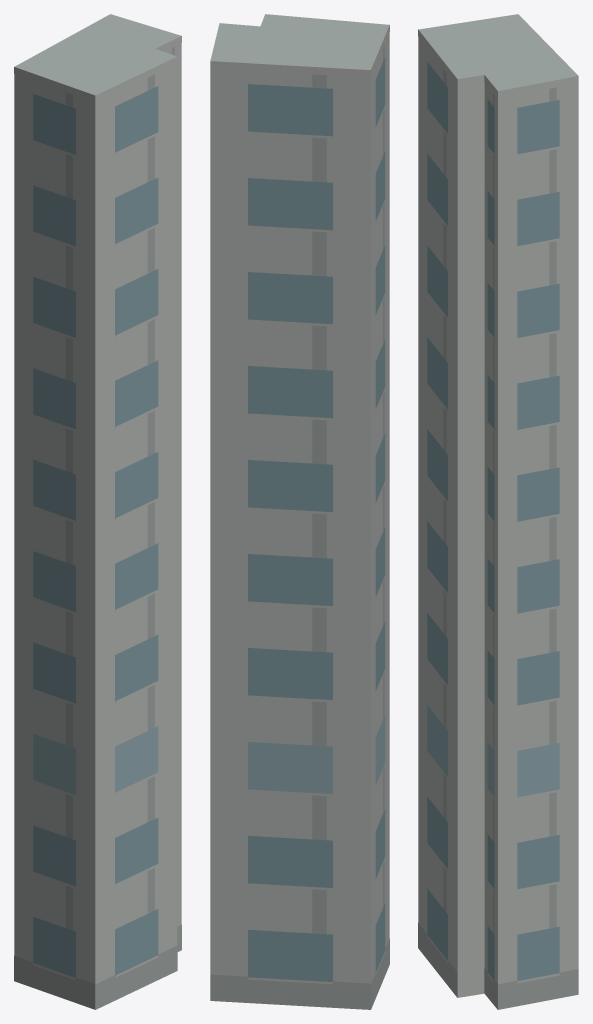
File: survey-upis-32841111.glb
3 renders of one model, left to right at view 1: azimuth 30°, elevation 25°; view 2: azimuth 150°, elevation 25°; view 3: azimuth 270°, elevation 25°, orthographic. The views are drawn at different scales.
Parts seen in each view (by area): view 1: survey-upis-32841111.tmp; view 2: survey-upis-32841111.tmp; view 3: survey-upis-32841111.tmp.
Boxes of the visible parts, x1,y1,x2,y2 form: survey-upis-32841111.tmp: (14,14,181,1009); survey-upis-32841111.tmp: (210,14,389,1009); survey-upis-32841111.tmp: (418,14,578,1009).
Bounding box in the file's own units: 5.5 × 30.5 × 4.84.
